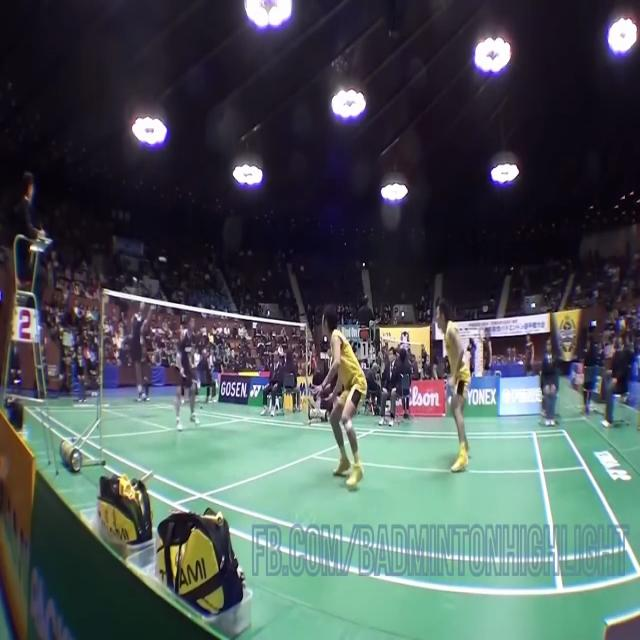shuttlecock: (158, 256, 167, 262)
